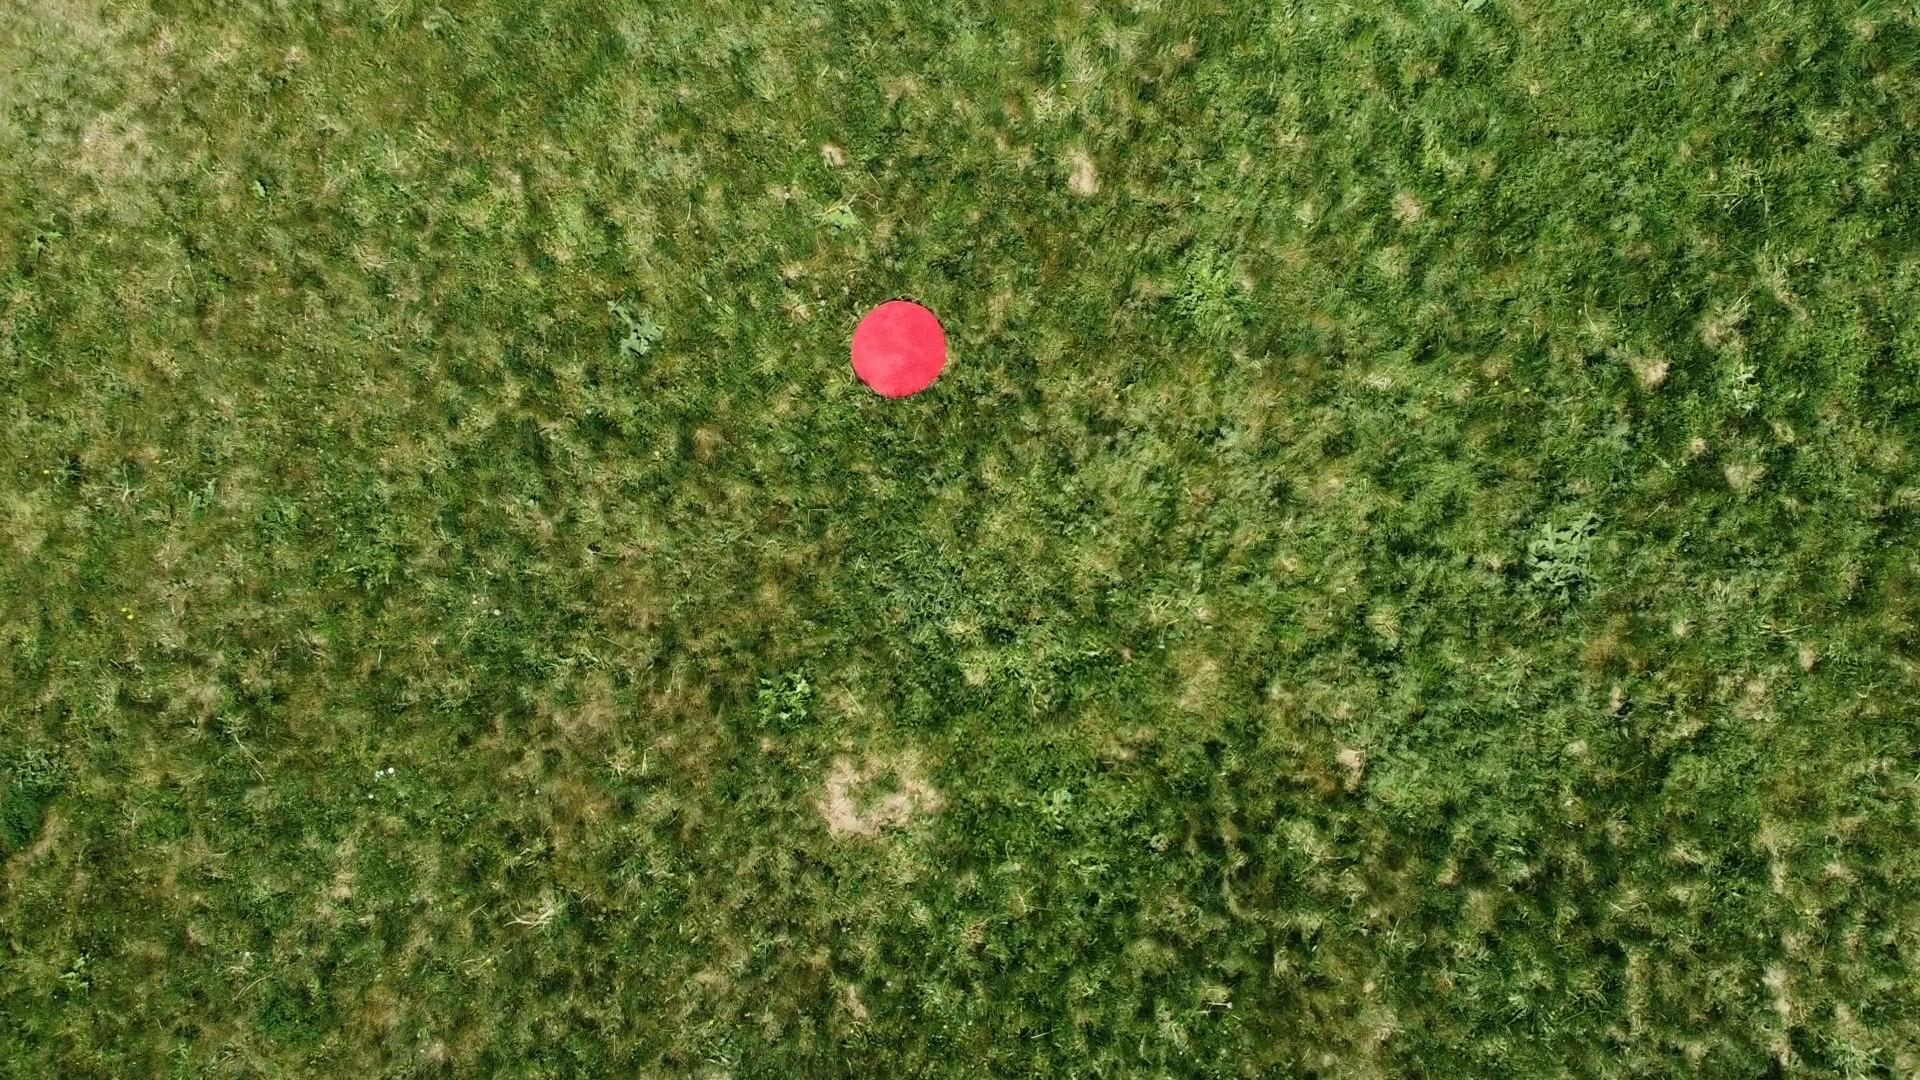Red: (849, 297, 951, 402)
